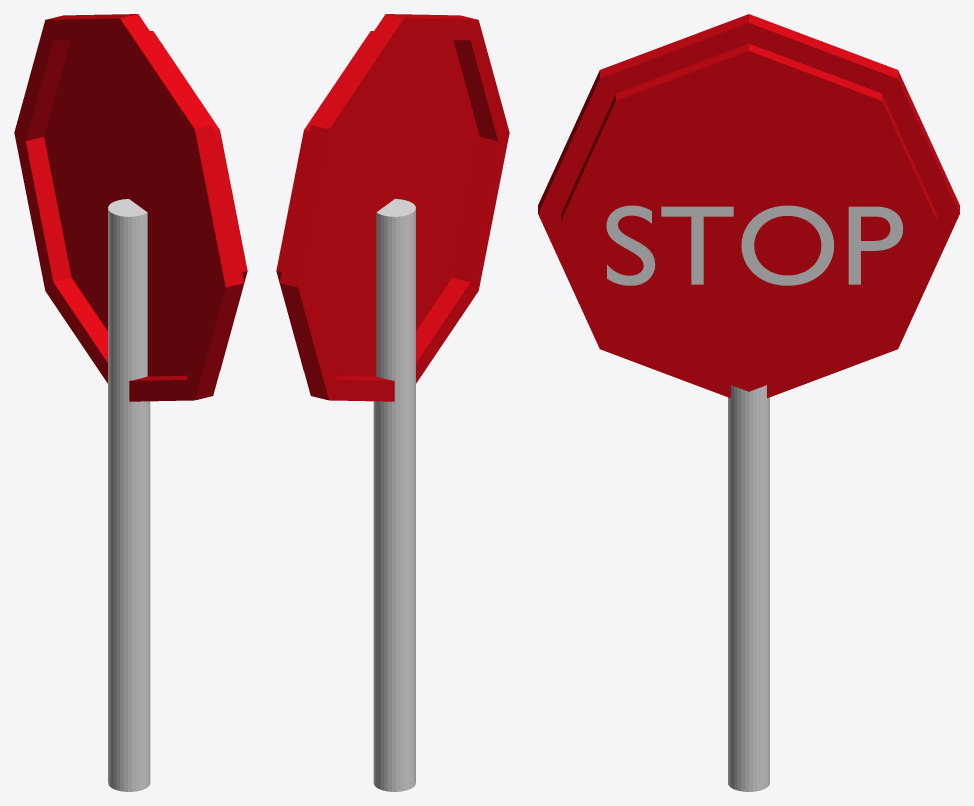
The model's file is StopSign.fbx.
3 renders of one model, left to right at view 1: azimuth 30°, elevation 25°; view 2: azimuth 150°, elevation 25°; view 3: azimuth 270°, elevation 25°, orthographic.
Visible parts, largest first — view 1: Cylinder.001, Cylinder; view 2: Cylinder.001, Cylinder; view 3: Cylinder.001, Cylinder, Text.
Part boxes in pixels (x1,y1,x2,y2): Cylinder.001: [14, 14, 247, 401]; Cylinder: [108, 199, 150, 791]; Cylinder.001: [276, 14, 509, 401]; Cylinder: [373, 199, 415, 791]; Cylinder.001: [538, 14, 959, 398]; Cylinder: [728, 385, 769, 791]; Text: [606, 205, 902, 285].
Size of the model in its own units: 3 by 40 by 20.
